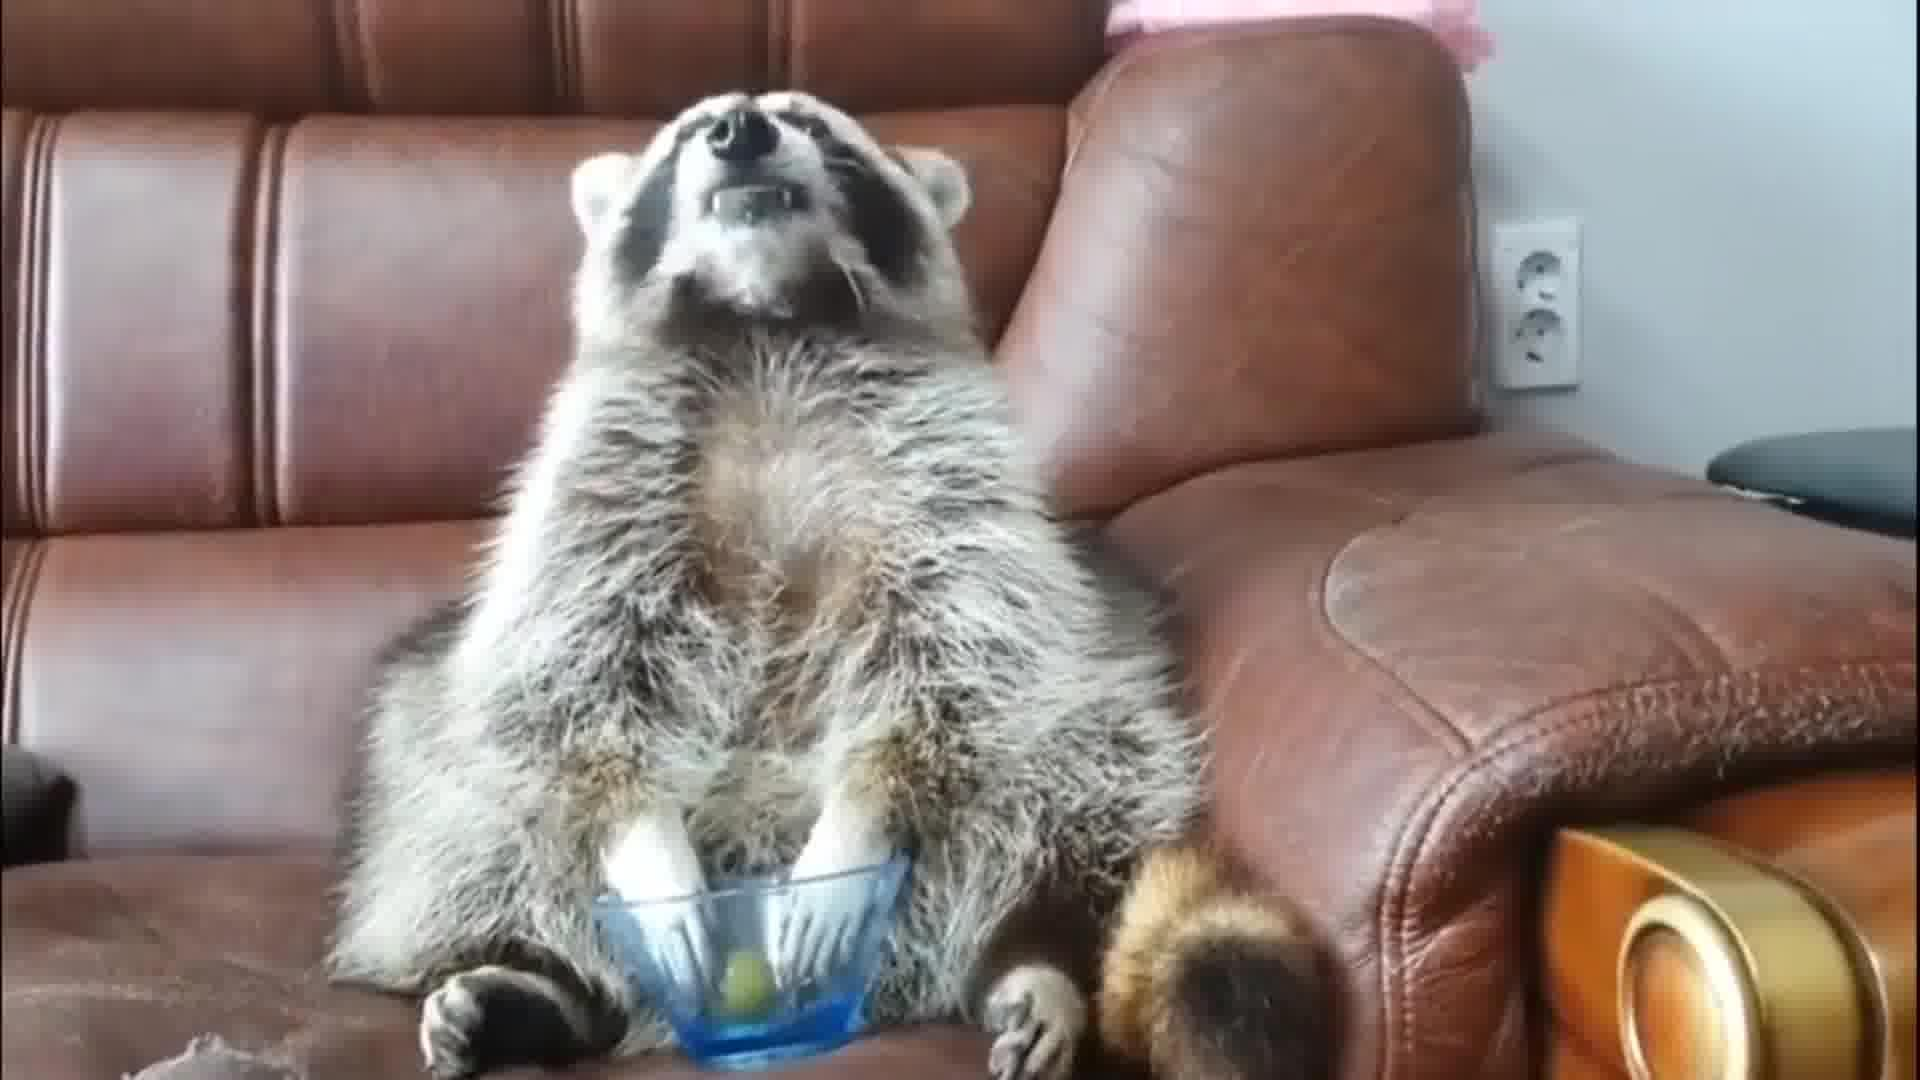raccoon: (324, 100, 1340, 1080)
